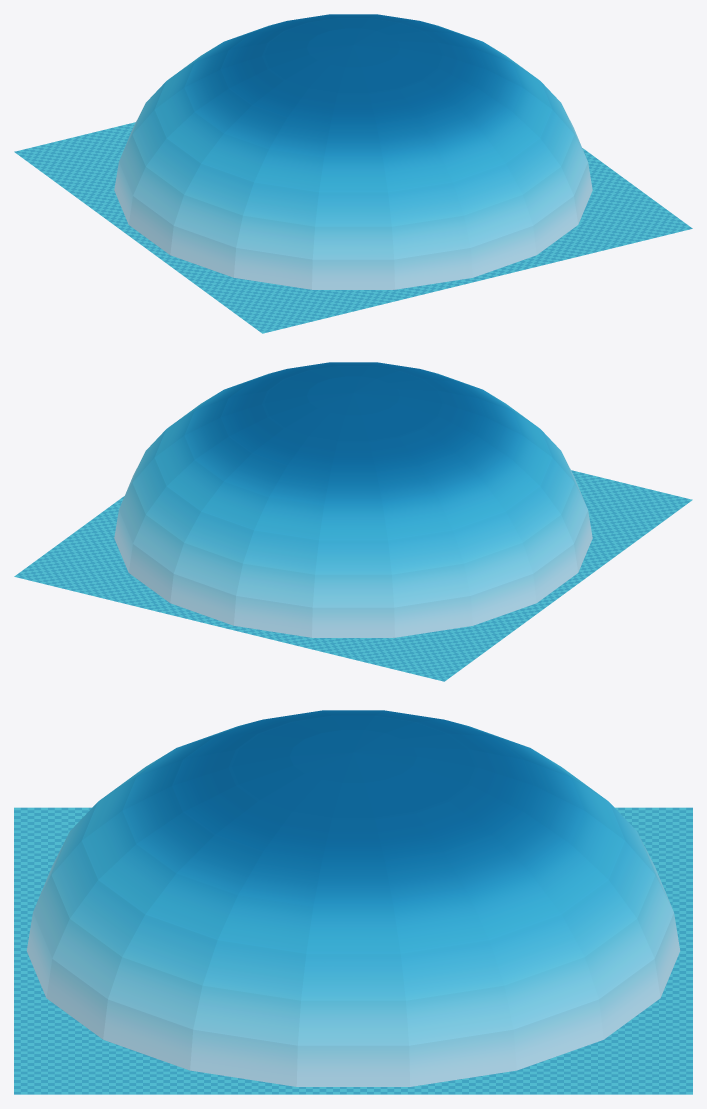
Rendered from set.glb.
3 renders of one model, top to bottom at view 1: azimuth 30°, elevation 25°; view 2: azimuth 150°, elevation 25°; view 3: azimuth 270°, elevation 25°, orthographic. The views are drawn at different scales.
Parts seen in each view (by area): view 1: sky, floor; view 2: sky, floor; view 3: sky, floor.
Boxes of the visible parts, box(x1,y1,x2,y2) form: sky: box(114, 14, 592, 289); floor: box(14, 122, 692, 333); sky: box(114, 362, 592, 637); floor: box(14, 470, 692, 681); sky: box(26, 710, 680, 1086); floor: box(14, 807, 692, 1094).
Bounding box in the file's own units: 208 × 66.99 × 208.
3 materials, 3 textured.
